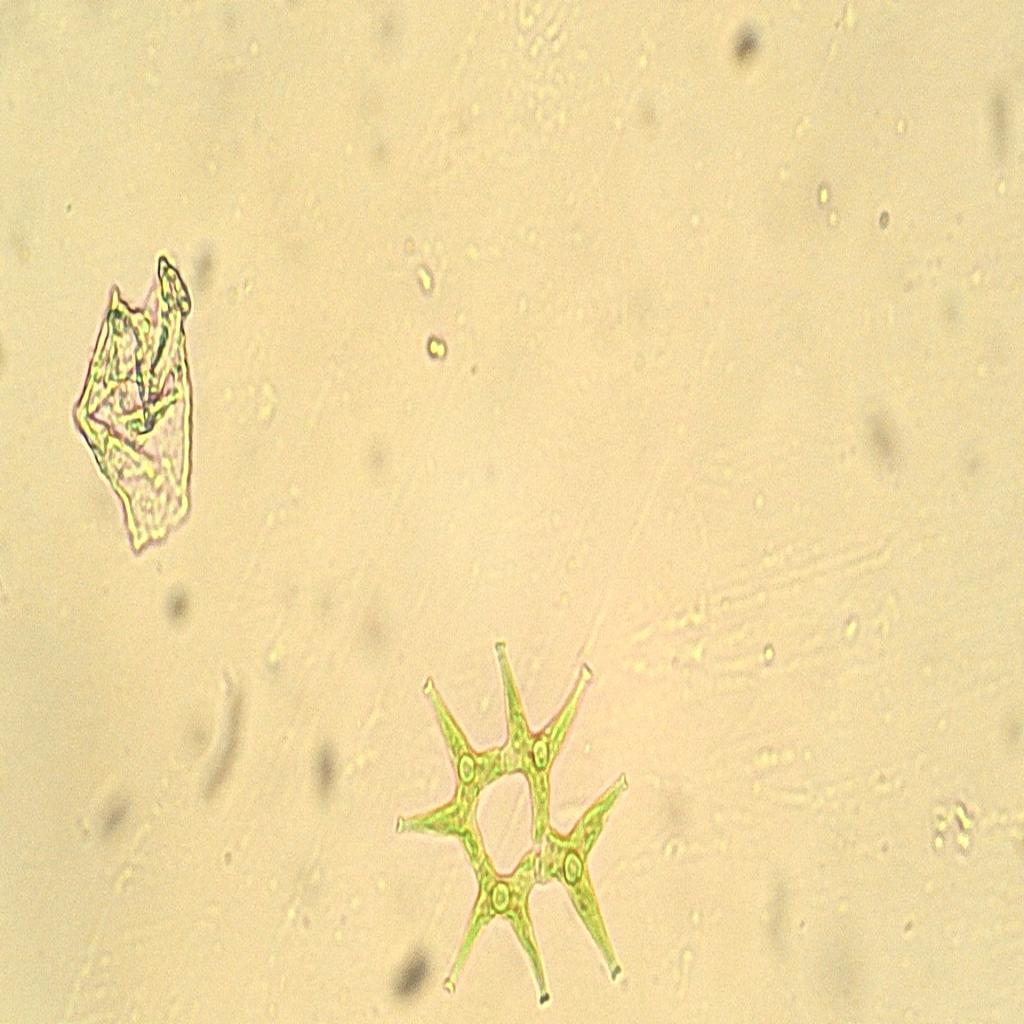Pediastrum_CT: (388, 614, 650, 1016)
